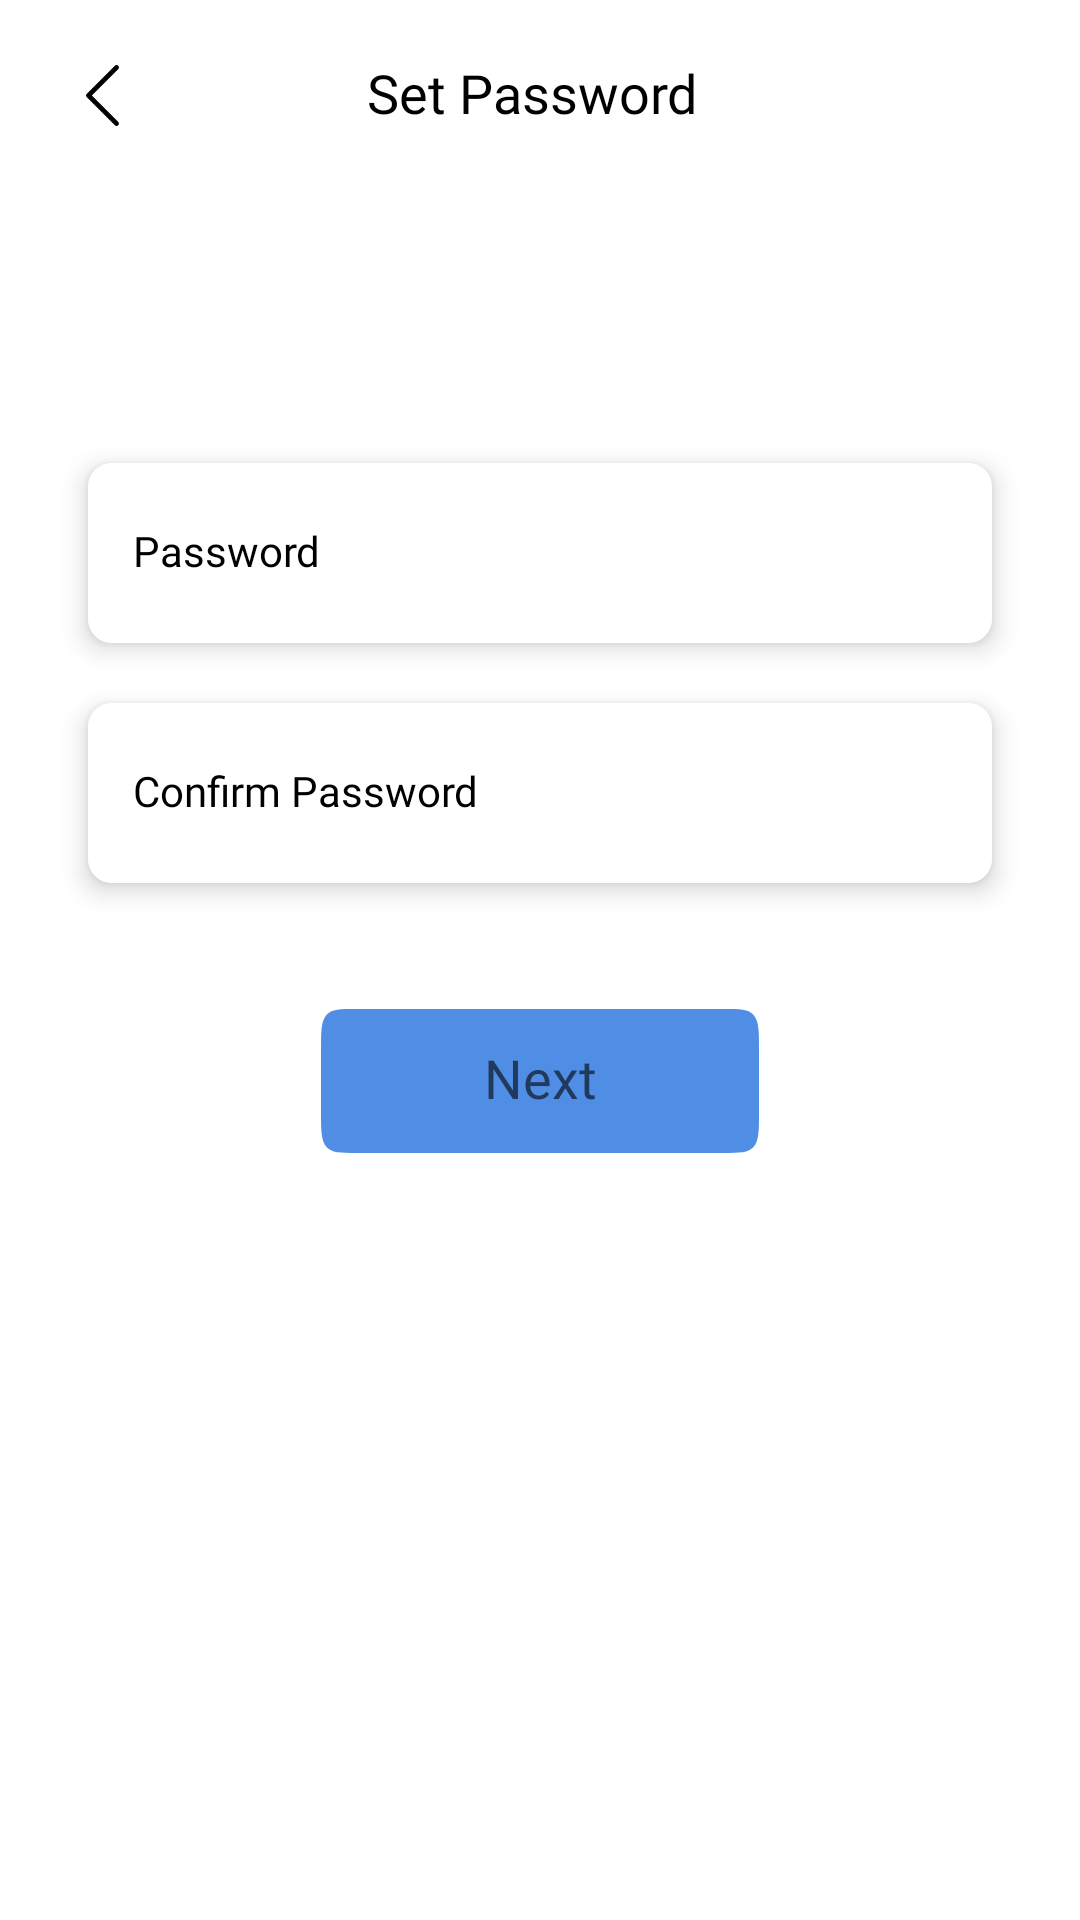

Screen size 1080w x 1920h. Icon name, then its box in pixels as (x1, y1, x2, y2):
back: (86, 65, 119, 126)
